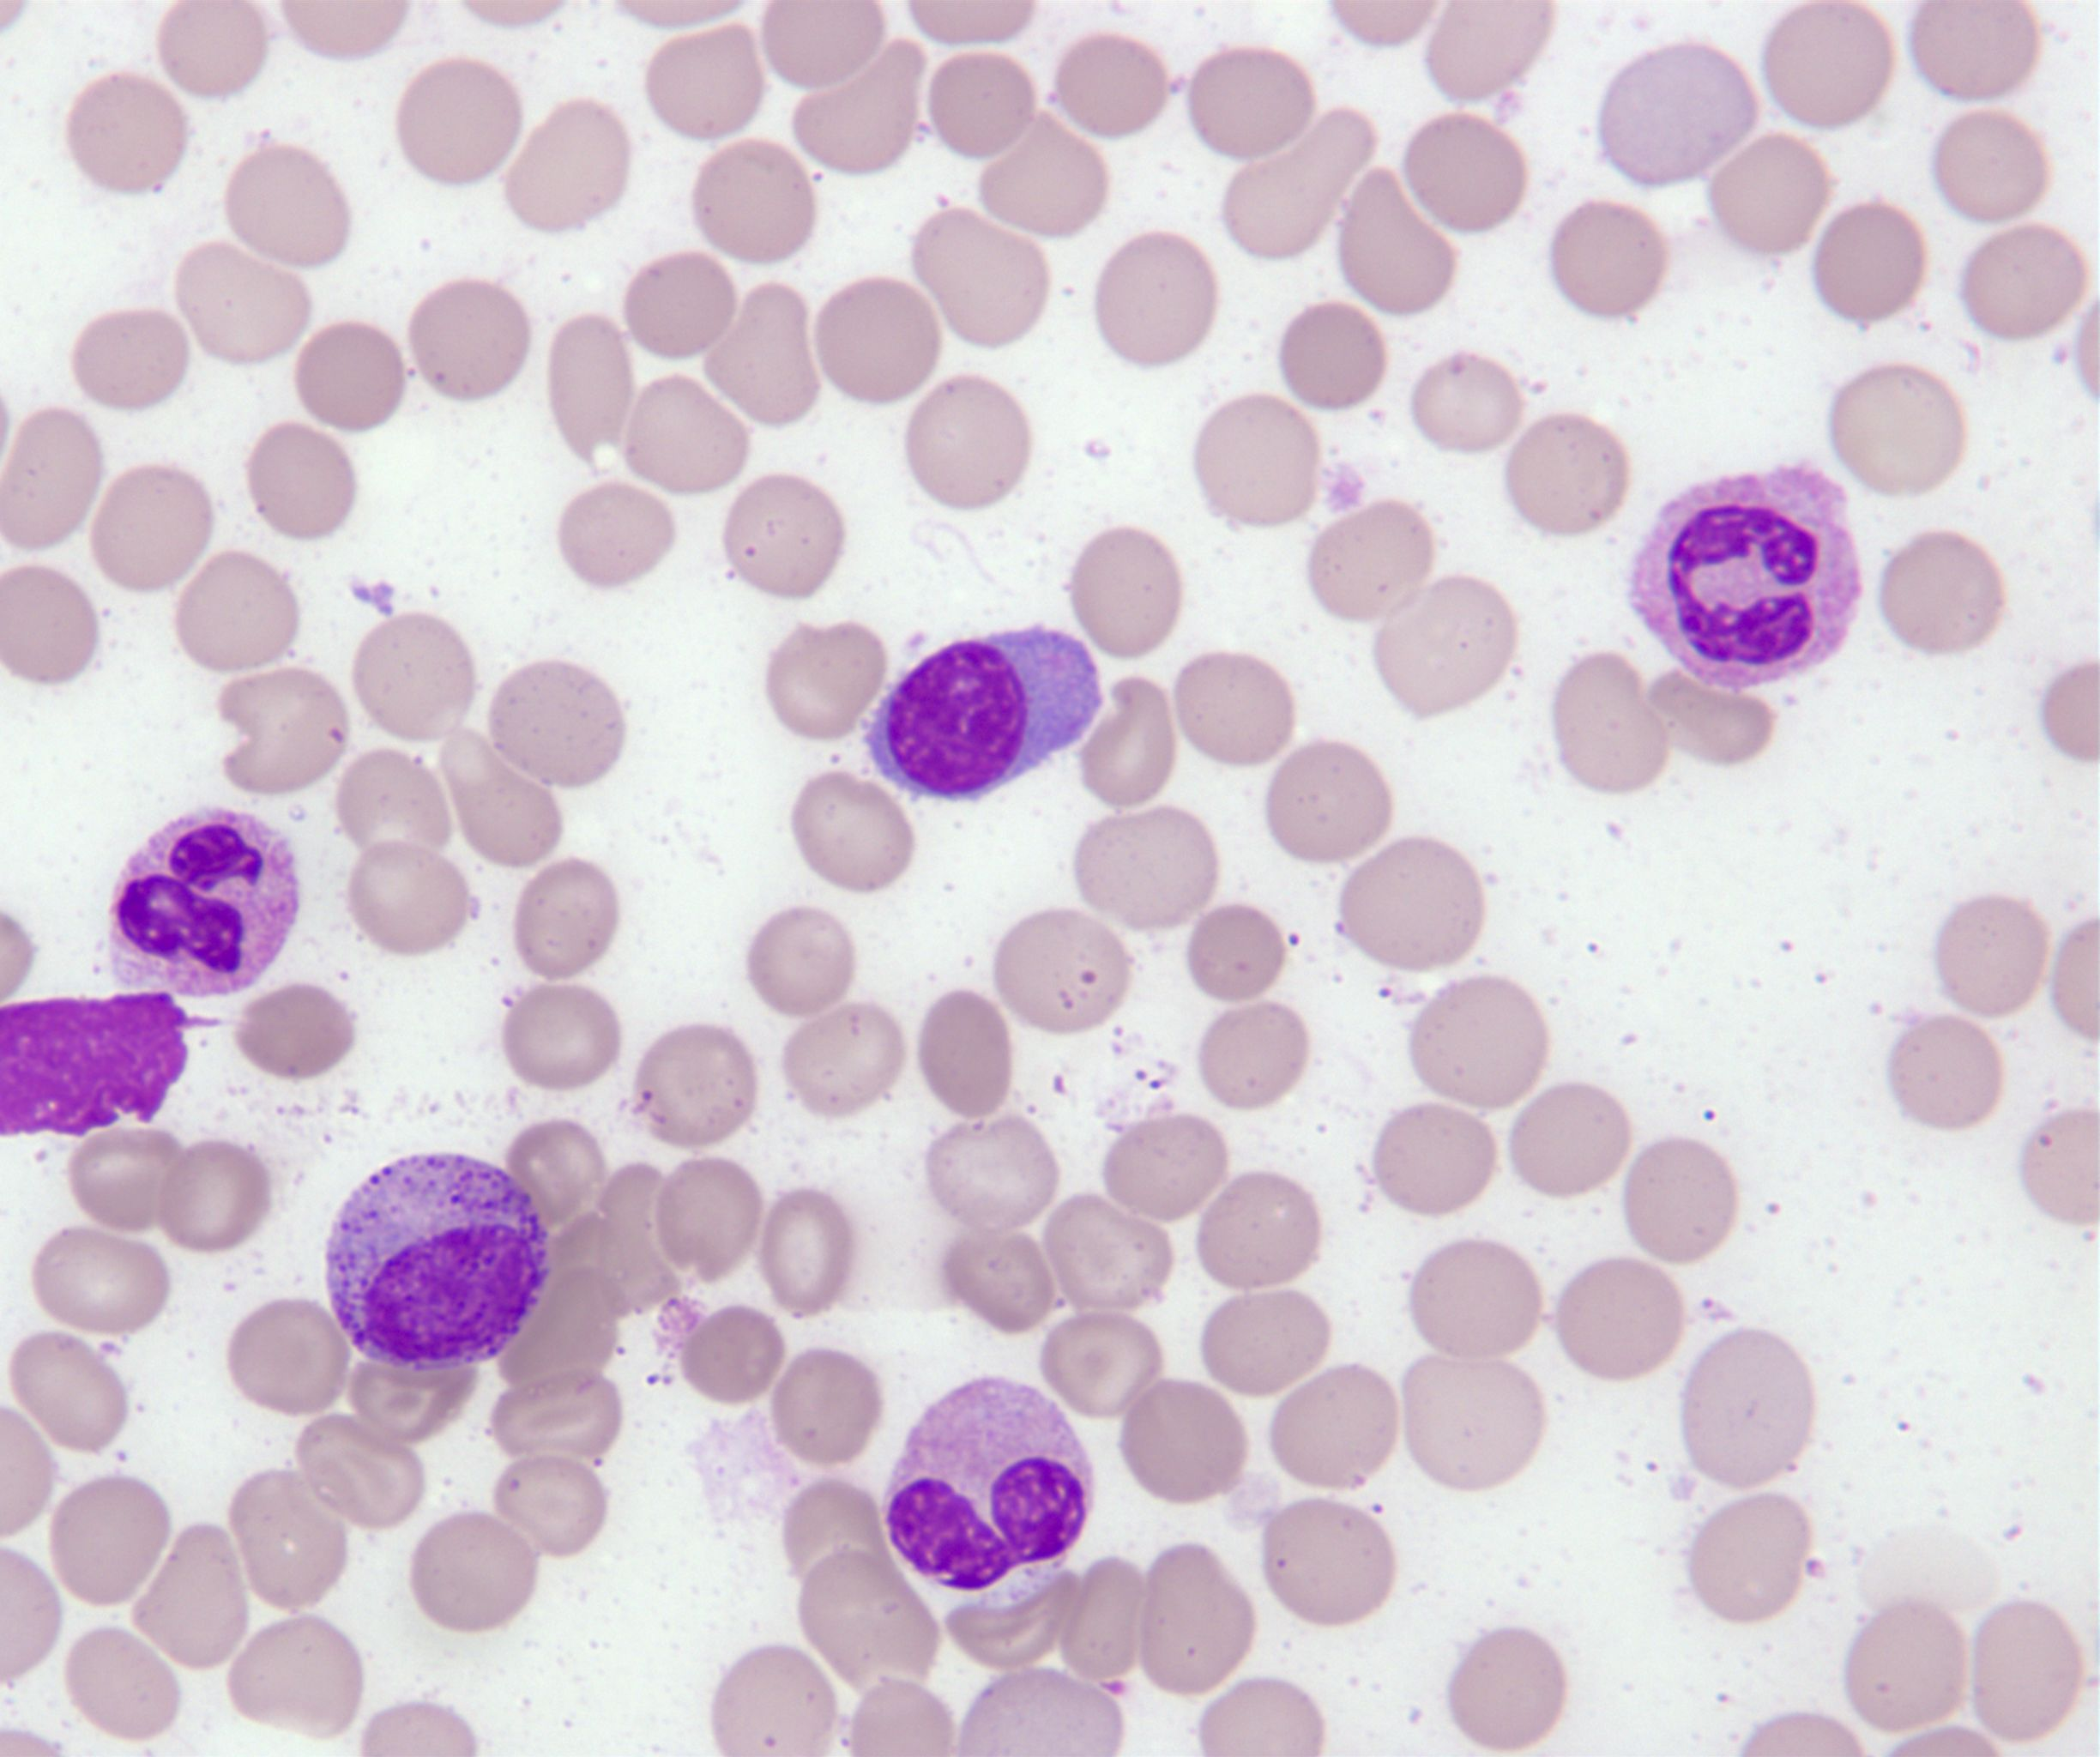3: (326, 1153, 549, 1368)
42: (883, 1378, 1095, 1602), (862, 628, 1102, 799)
5: (1627, 457, 1859, 689)
6: (108, 810, 297, 995)
x: (2, 991, 222, 1136)
